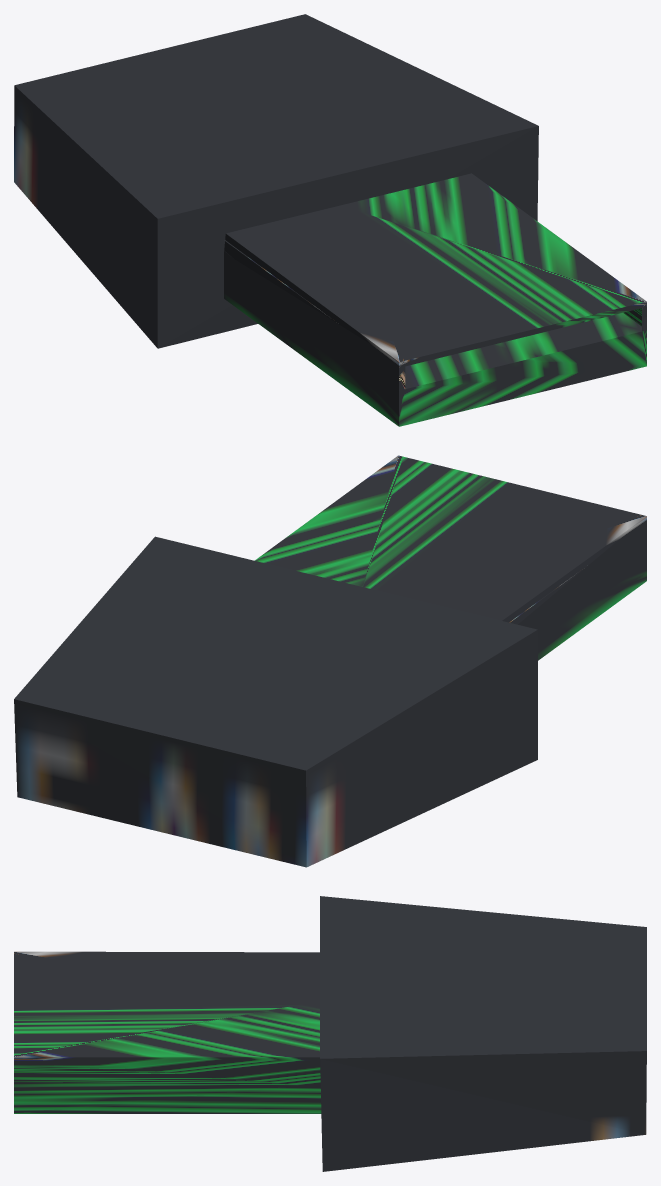
Rendered from usbAplug.obj.
3 views of the same model, one above another, from view 1: azimuth 30°, elevation 25°; view 2: azimuth 150°, elevation 25°; view 3: azimuth 270°, elevation 25° (orthographic). The views are drawn at different scales.
Parts seen in each view (by area): view 1: Cube.001; view 2: Cube.001; view 3: Cube.001.
Part boxes in pixels (<box>): Cube.001: <box>14,14,646,426</box>; Cube.001: <box>14,455,646,867</box>; Cube.001: <box>14,896,646,1171</box>.
Size of the model in its own units: 1.75 by 0.5711 by 2.89.
